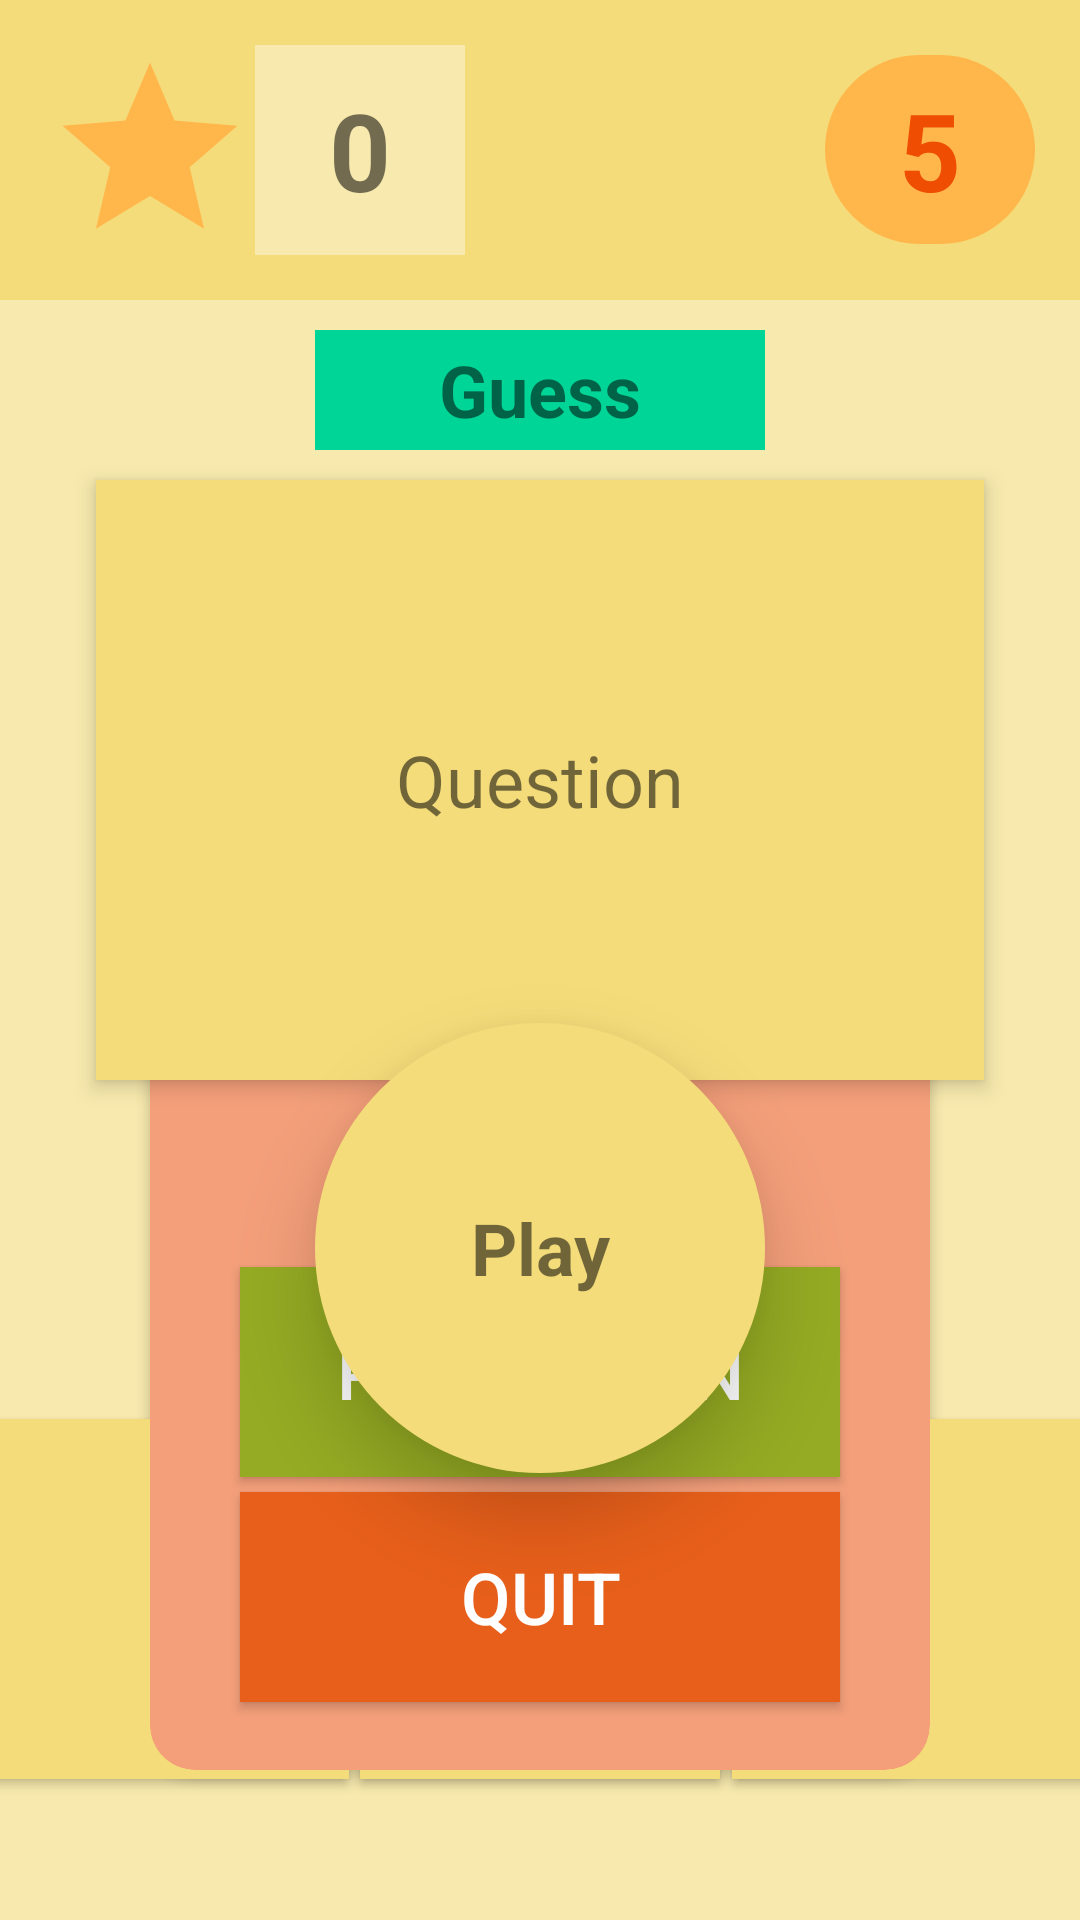

Point at icon controls on the screen. Image size 1080×1920, points as (x=x, y=y).
star: (x=150, y=146)
